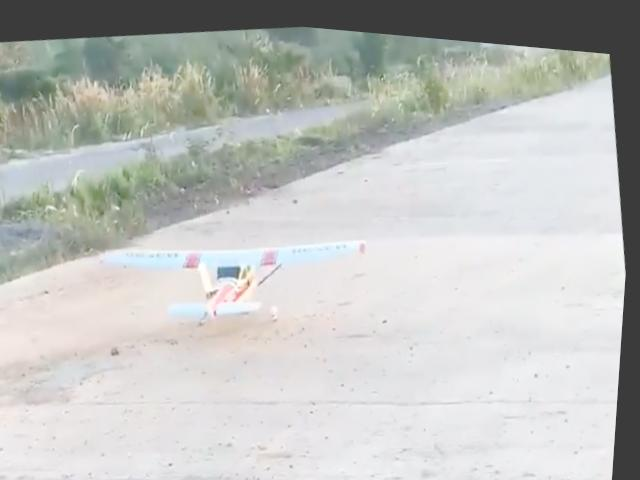plane: (99, 212, 381, 346)
